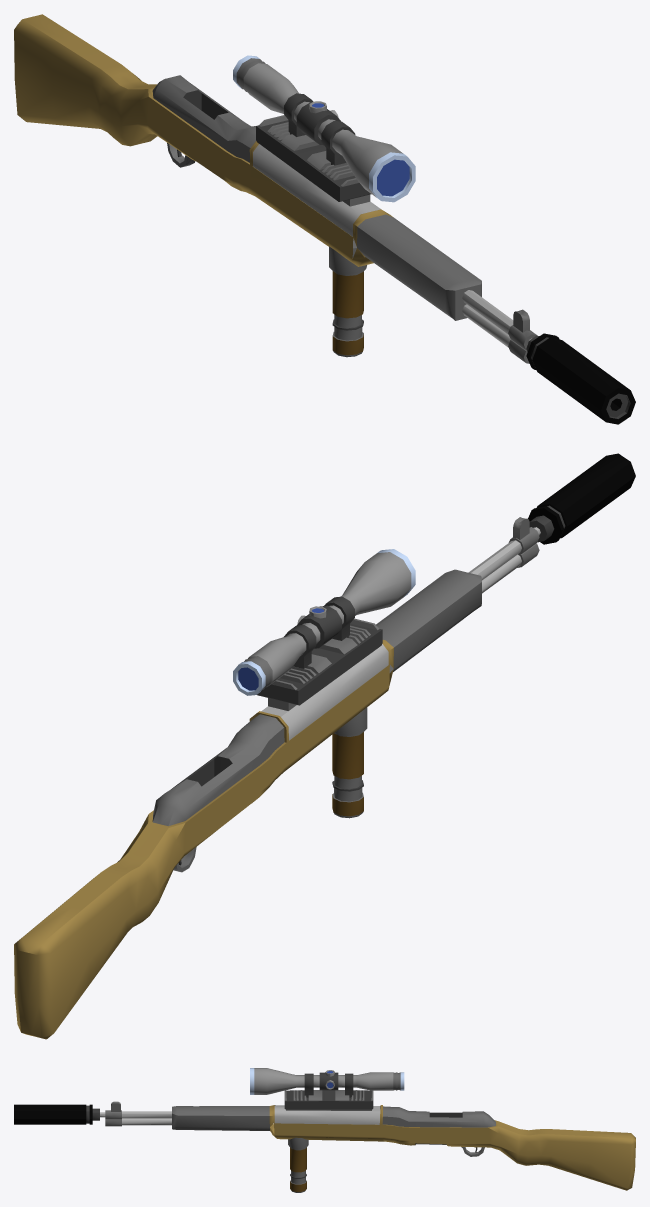
Rendered from 23-Suppressed-marksman.glb.
3 renders of one model, top to bottom at view 1: azimuth 30°, elevation 25°; view 2: azimuth 150°, elevation 25°; view 3: azimuth 270°, elevation 25°, orthographic. The views are drawn at different scales.
Visible parts, largest first — view 1: Suppressed marksman; view 2: Suppressed marksman; view 3: Suppressed marksman.
Part boxes in pixels (x1,y1,x2,y2): Suppressed marksman: (14,14,635,424); Suppressed marksman: (14,453,635,1039); Suppressed marksman: (14,1068,635,1192).
Size of the model in its own units: 0.0518 by 0.2655 by 1.24.
1 material, 1 textured.
